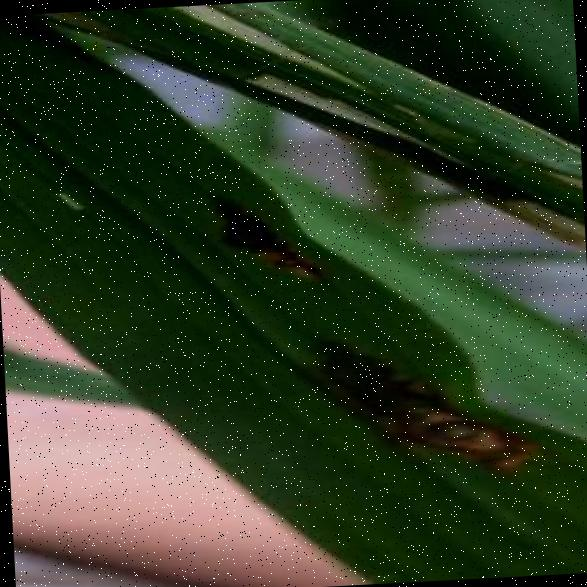Leaf_smut: (276, 312, 547, 507), (166, 167, 323, 308)
